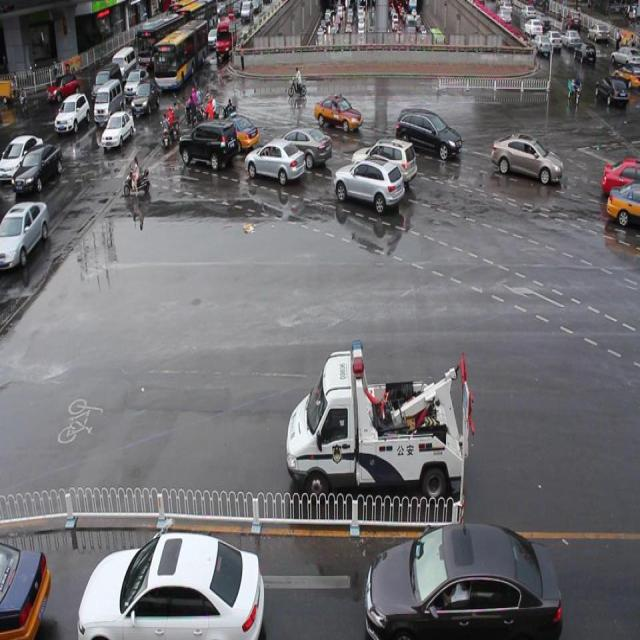bus: (285, 338, 464, 498)
car: (334, 155, 405, 218), (490, 128, 563, 186), (395, 105, 461, 159), (351, 137, 416, 189), (266, 123, 332, 169), (244, 137, 305, 183), (312, 94, 362, 134), (604, 179, 640, 230), (213, 114, 259, 152), (600, 159, 640, 199)
truck: (179, 118, 237, 168)
